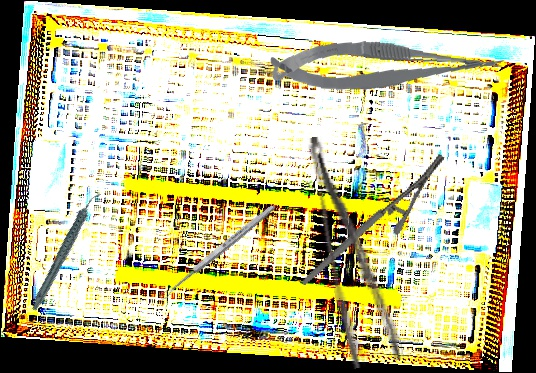Dressing Forceps: (304, 128, 405, 370)
Handpiece: (10, 190, 123, 313)
Micro Scissor: (267, 32, 506, 104)
Needle Holder: (275, 151, 471, 286)
Surgical Spoon: (157, 202, 278, 302)
